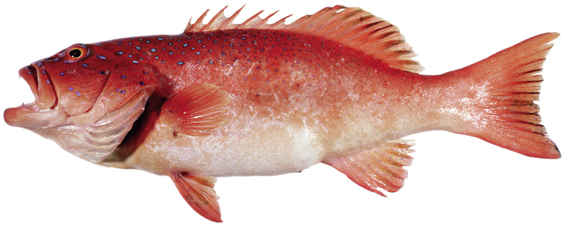fish: (4, 5, 562, 223)
